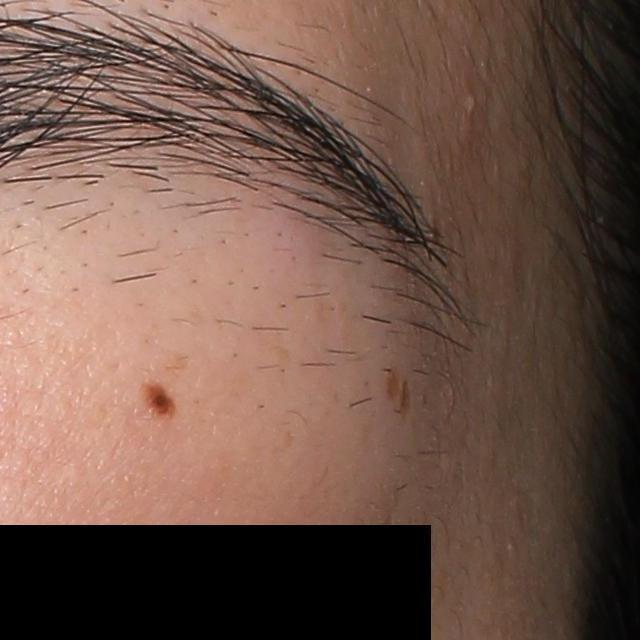melasma: (384, 366, 414, 421)
nevus: (135, 377, 180, 420)
